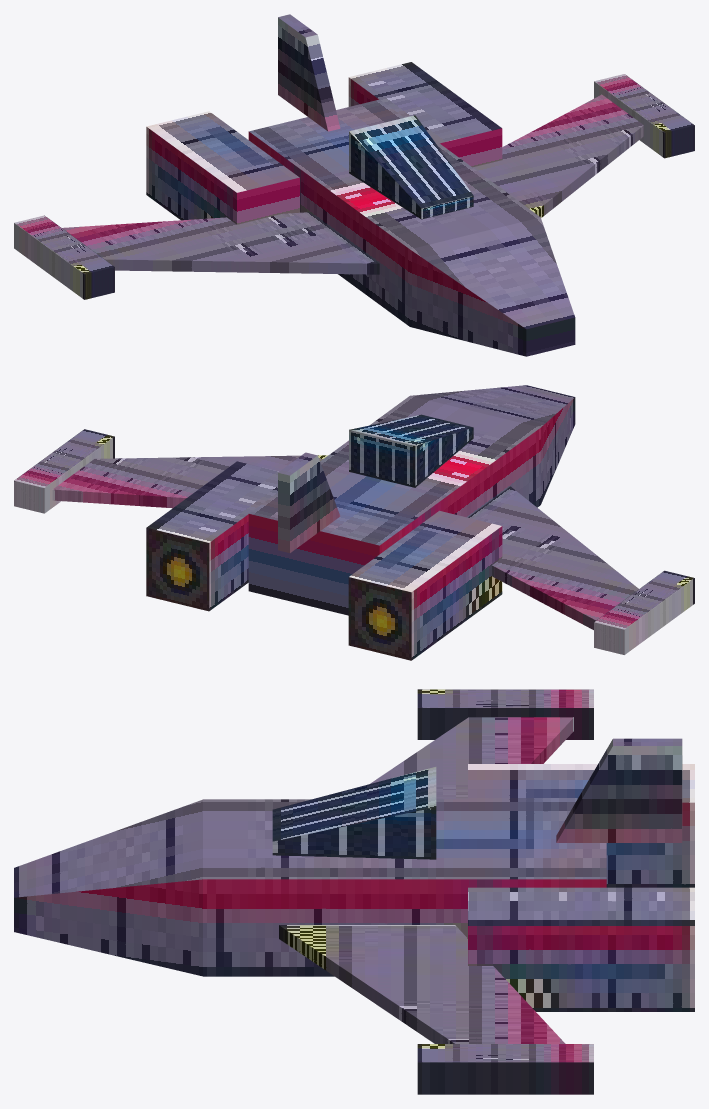
File: fighter.glb
3 views of the same model, one above another, from view 1: azimuth 30°, elevation 25°; view 2: azimuth 150°, elevation 25°; view 3: azimuth 270°, elevation 25° (orthographic). The views are drawn at different scales.
Visible parts, largest first — view 1: Model; view 2: Model; view 3: Model.
Boxes of the visible parts, x1,y1,x2,y2 form: Model: [14, 14, 694, 356]; Model: [14, 385, 694, 660]; Model: [14, 689, 694, 1094].
Size of the model in its own units: 30.1 by 7.31 by 23.22.
Materials: 1 (1 with a texture image).
